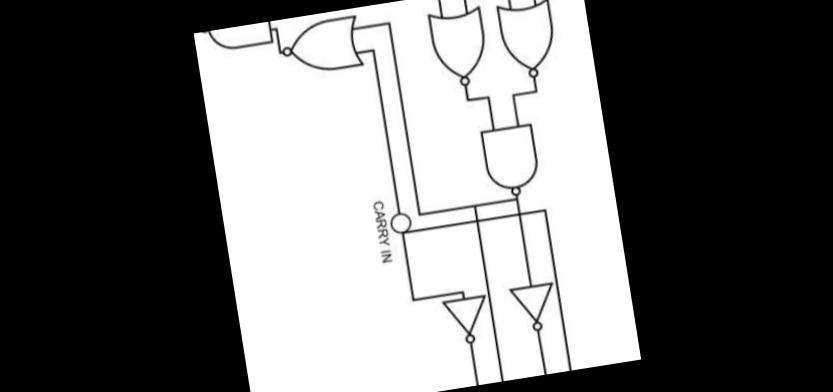nand: (474, 116, 549, 200), (194, 21, 276, 62)
nor: (278, 11, 369, 96), (417, 1, 495, 92), (489, 0, 566, 82)
not: (505, 268, 561, 338), (439, 287, 493, 348)
